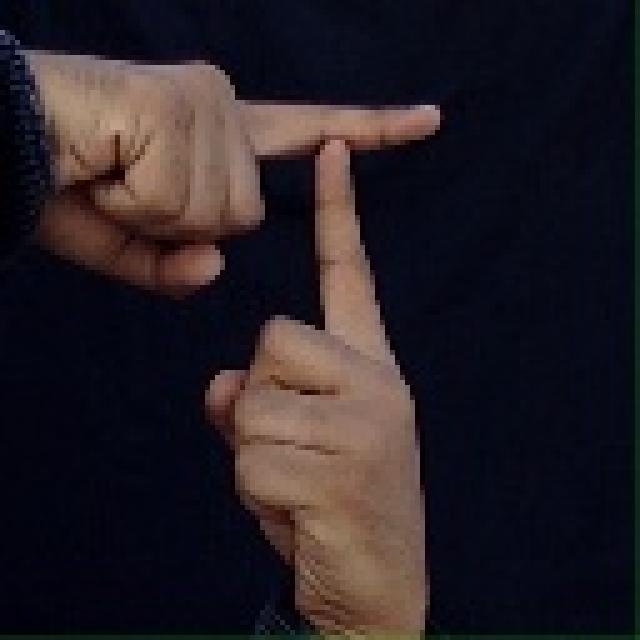Alphabet-T: (22, 30, 524, 612)
